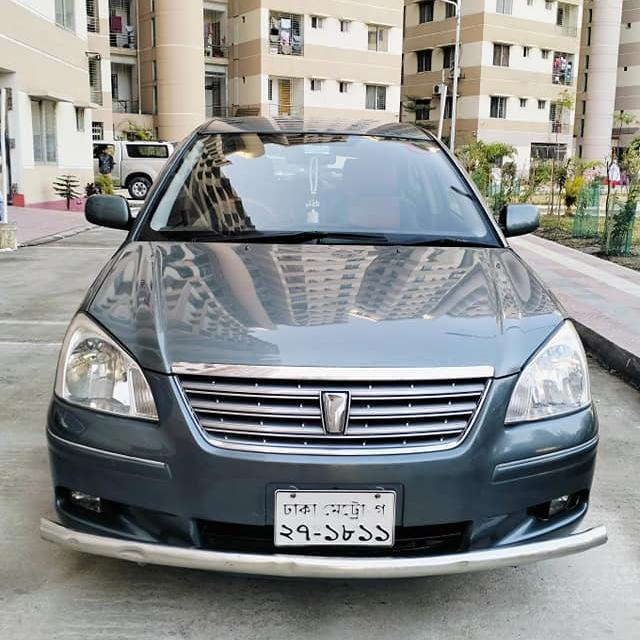Number-Plate: (276, 490, 399, 546)
